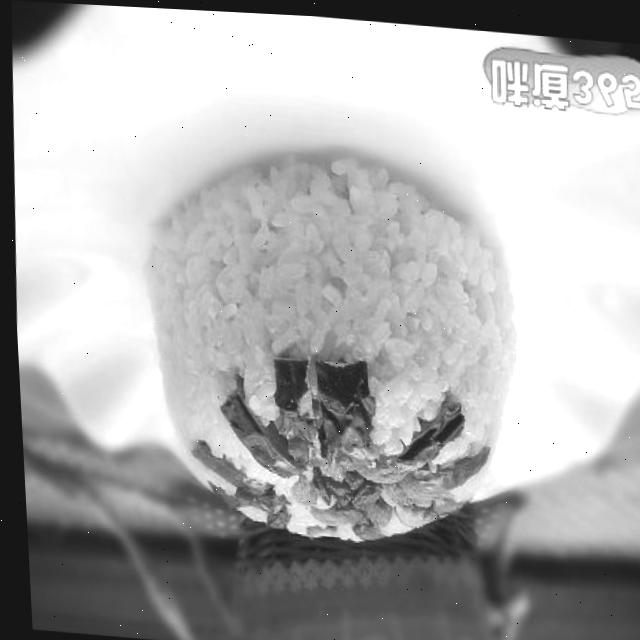米饭主食: (118, 134, 537, 585)
